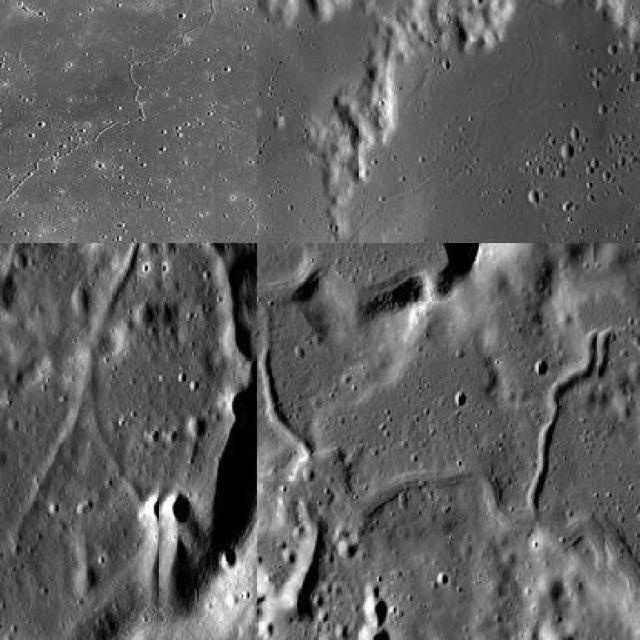crater: (258, 303, 640, 559), (1, 0, 237, 242), (318, 22, 534, 242), (1, 243, 95, 639), (126, 0, 200, 68)
